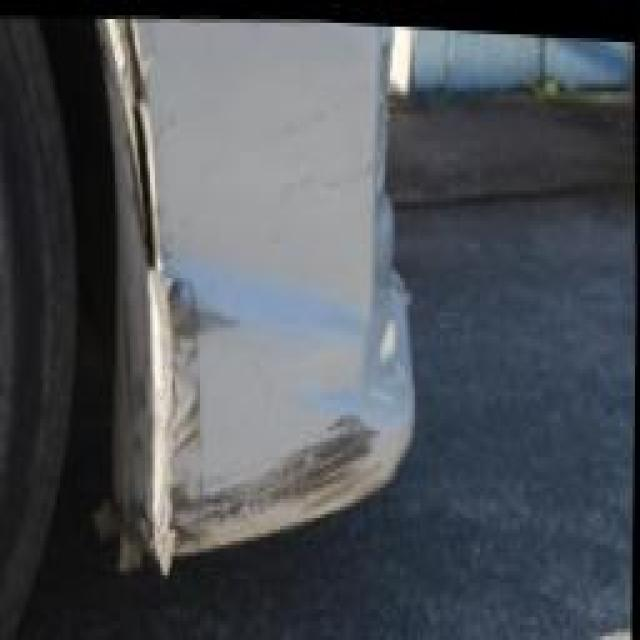Bumper: (102, 8, 411, 542)
